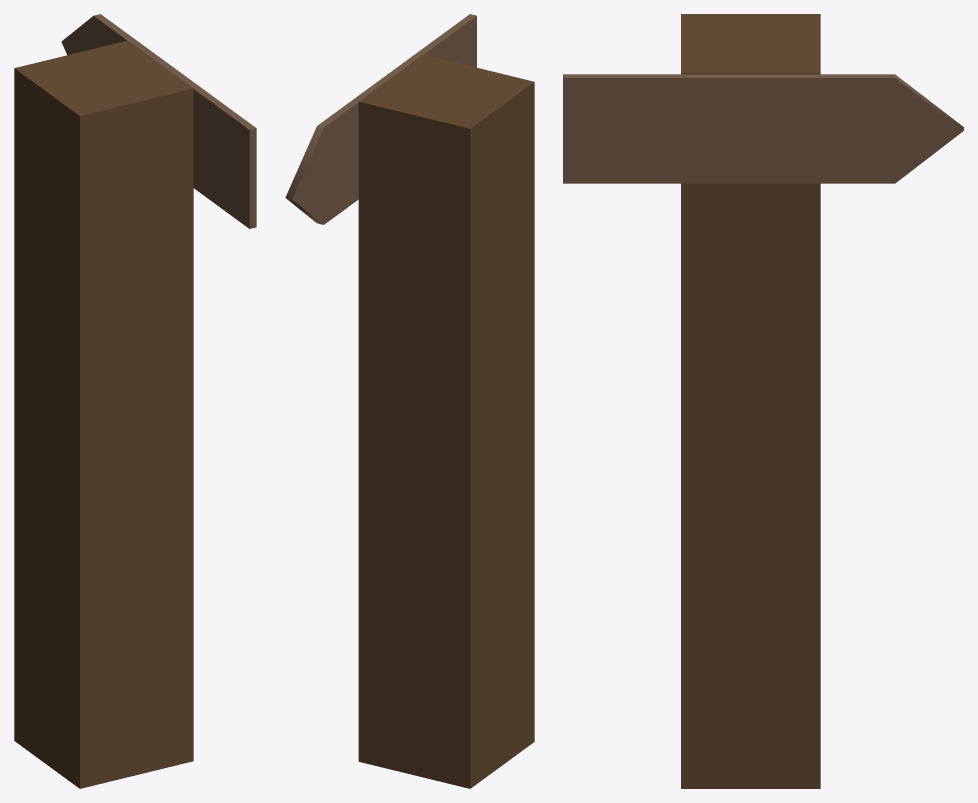
File: Letrerio_señalfbx.fbx
3 renders of one model, left to right at view 1: azimuth 30°, elevation 25°; view 2: azimuth 150°, elevation 25°; view 3: azimuth 270°, elevation 25°, orthographic. The views are drawn at different scales.
Visible parts, largest first — view 1: pCube4, pCube5; view 2: pCube4, pCube5; view 3: pCube4, pCube5.
Part boxes in pixels (x1=…): pCube4: x1=14, y1=40, x2=193, y2=788; pCube5: x1=61, y1=14, x2=256, y2=228; pCube4: x1=358, y1=54, x2=534, y2=788; pCube5: x1=285, y1=14, x2=476, y2=224; pCube4: x1=681, y1=14, x2=820, y2=788; pCube5: x1=563, y1=74, x2=963, y2=183.
Size of the model in its own units: 1.28 by 6.79 by 3.44.
